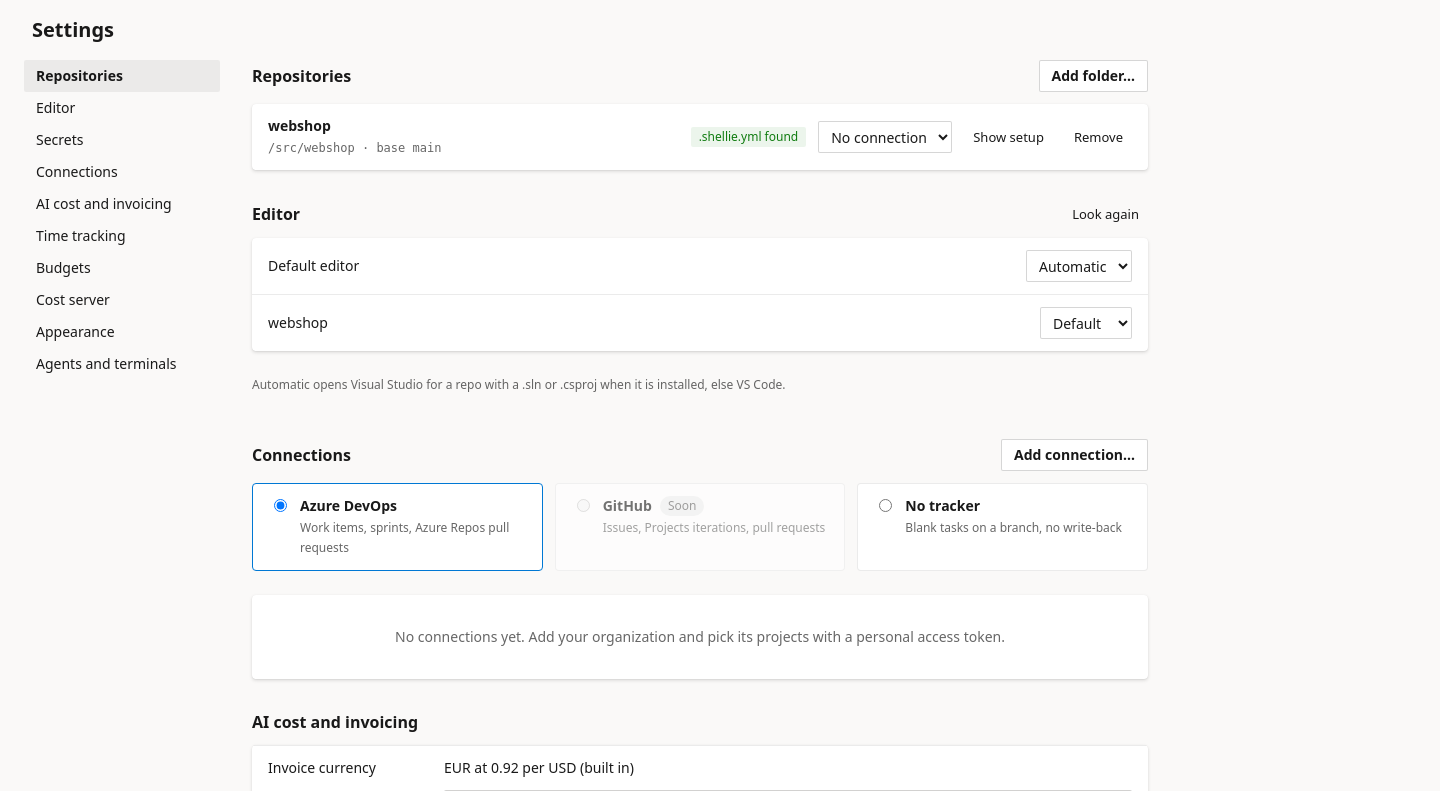
Test: SettingsScreen › shows the effective config for a repo
This screenshot has width=1440, height=791.
Click the button "Show setup".
click(1009, 137)  # box [964,125,1053,149]
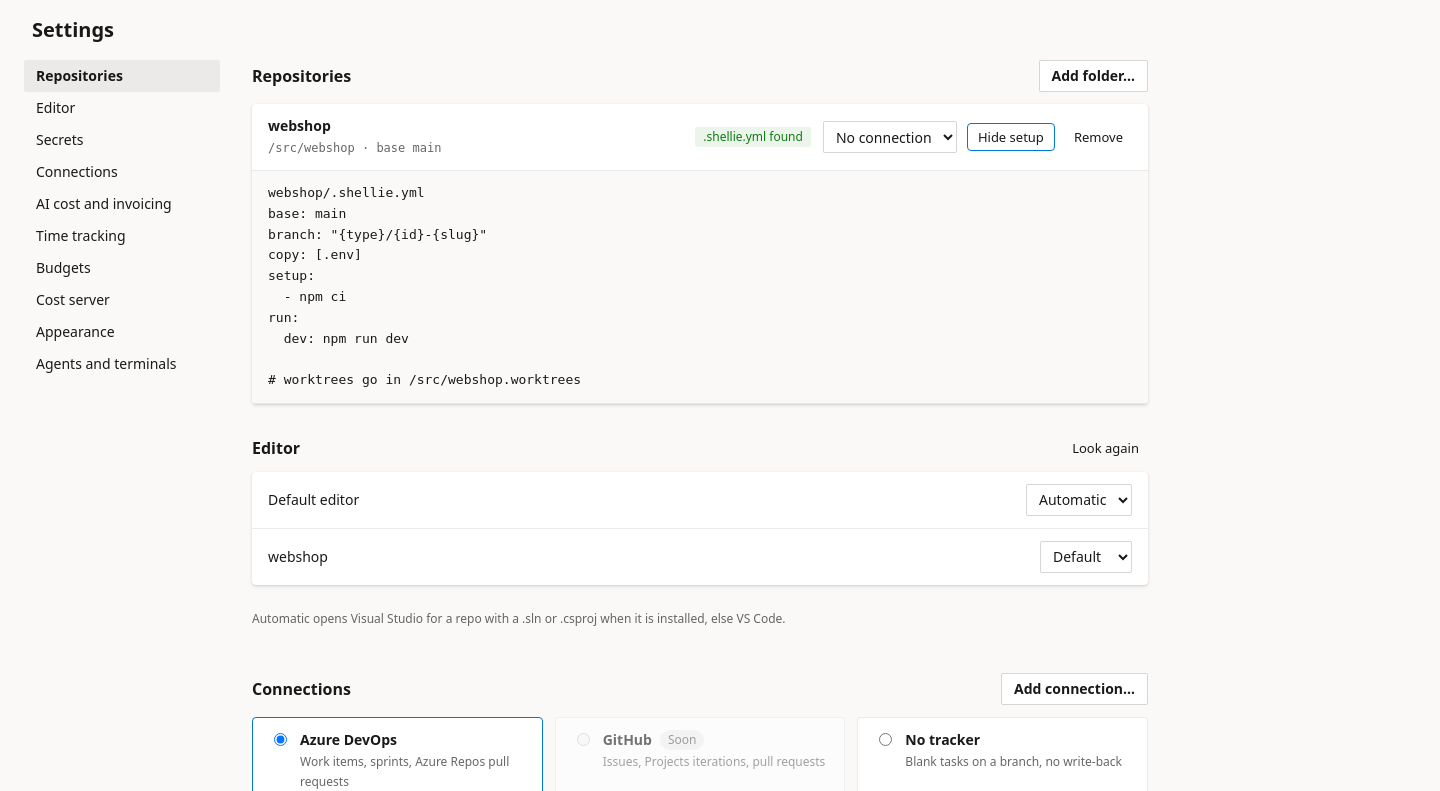
Expected: the text "copy: [.env]" is shown, [268,185,581,387]
